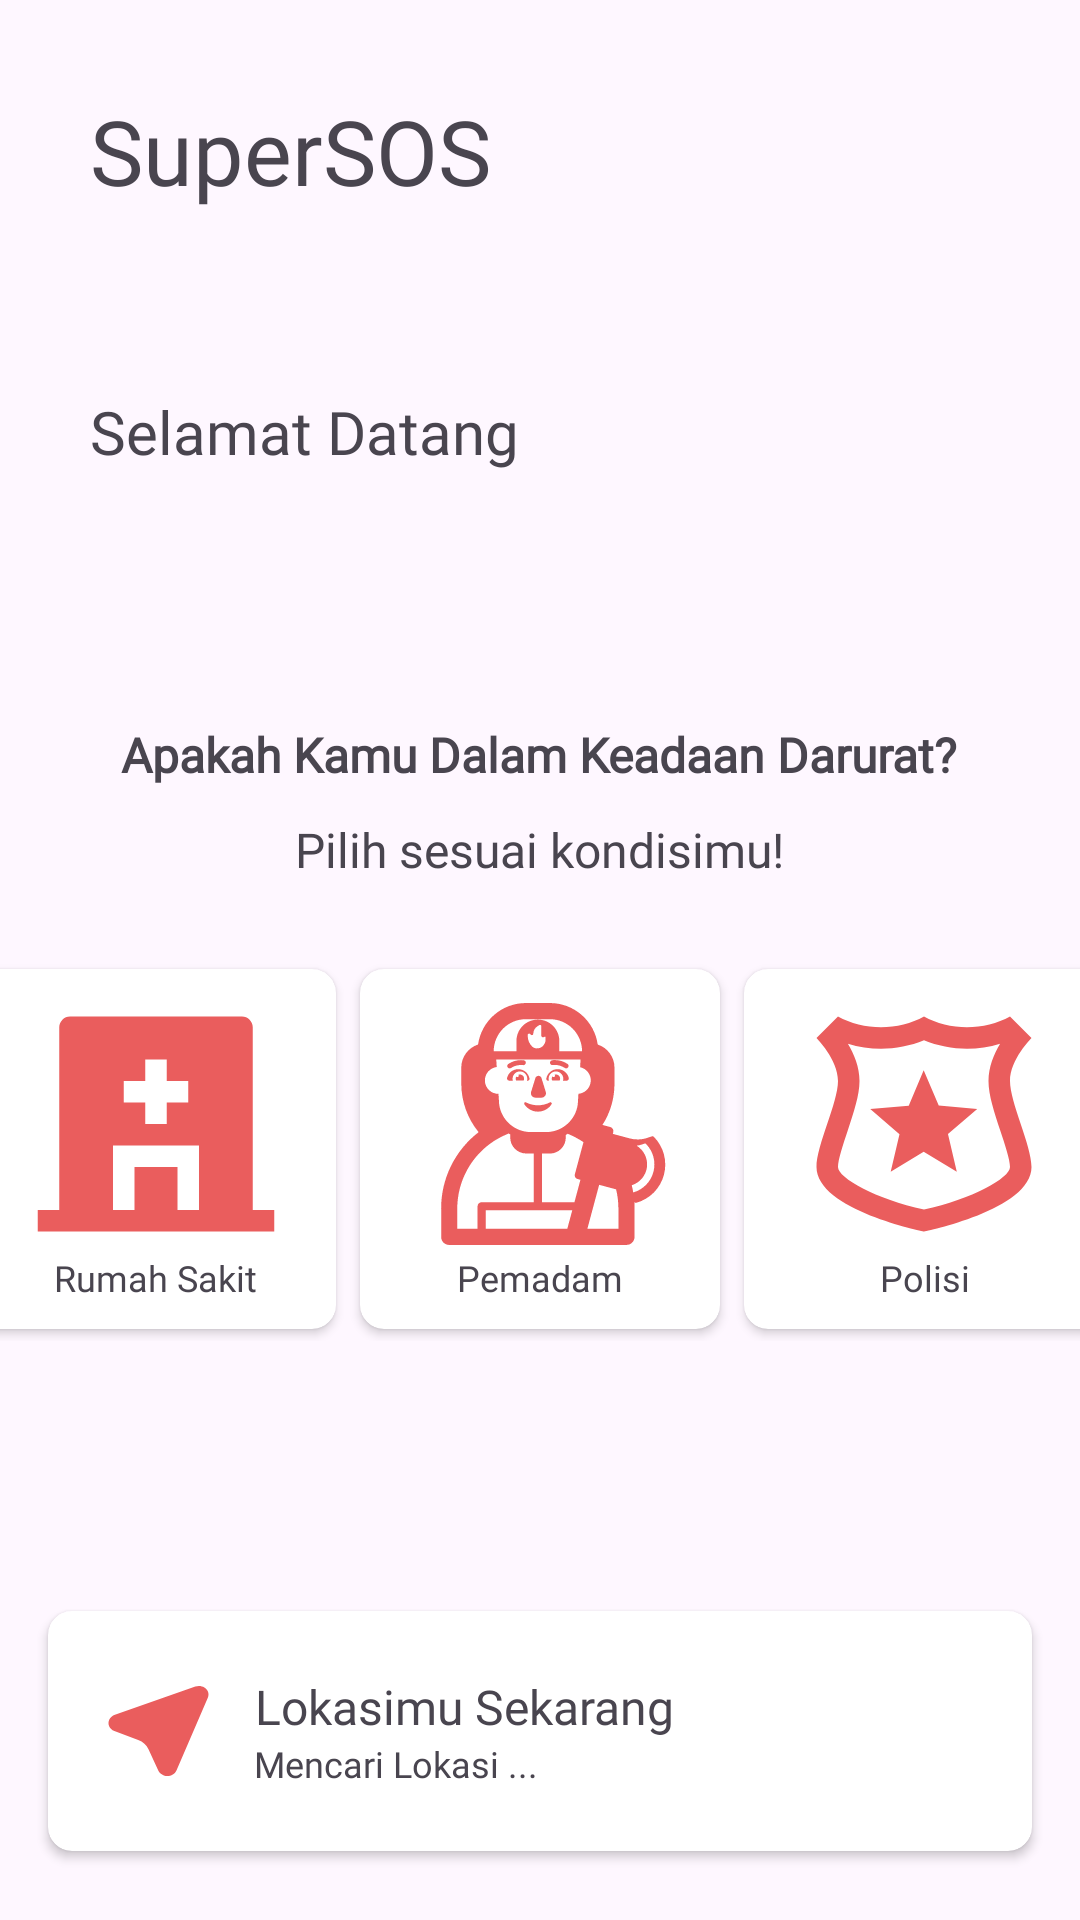

Screen size 1080*1920. Icon name, then its center in pixels as (x,y):
location: (158,1731)
